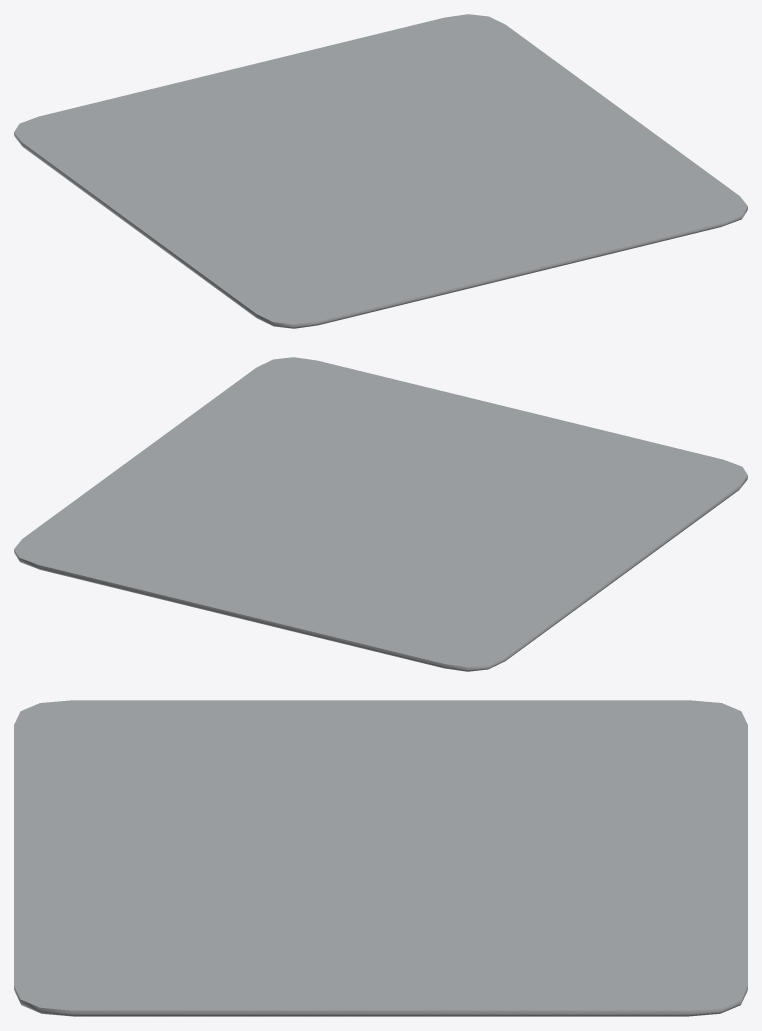
Rendered from OfficeAirConditioner02.FBX.
3 renders of one model, top to bottom at view 1: azimuth 30°, elevation 25°; view 2: azimuth 150°, elevation 25°; view 3: azimuth 270°, elevation 25°, orthographic. The views are drawn at different scales.
Parts seen in each view (by area): view 1: OfficeAirConditioner02; view 2: OfficeAirConditioner02; view 3: OfficeAirConditioner02.
Part boxes in pixels (x1,y1,x2,y2): OfficeAirConditioner02: (14,14,747,328); OfficeAirConditioner02: (14,357,747,671); OfficeAirConditioner02: (14,700,747,1016).
Size of what is drawn, in the model's own units: 1 by 0.0546 by 1.
